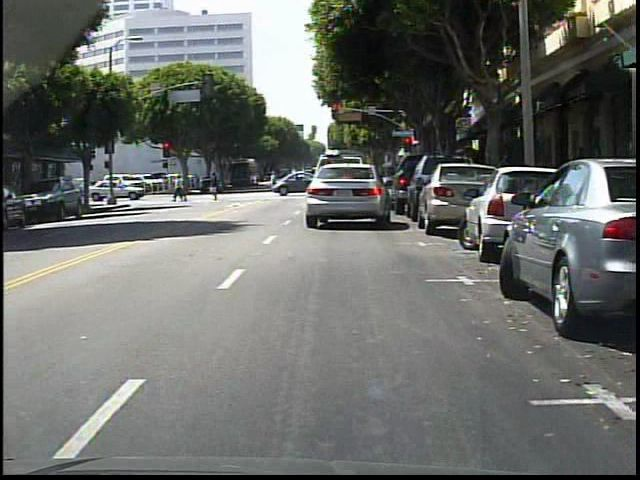person: (209, 172, 223, 201), (173, 174, 187, 201), (271, 171, 279, 191)
